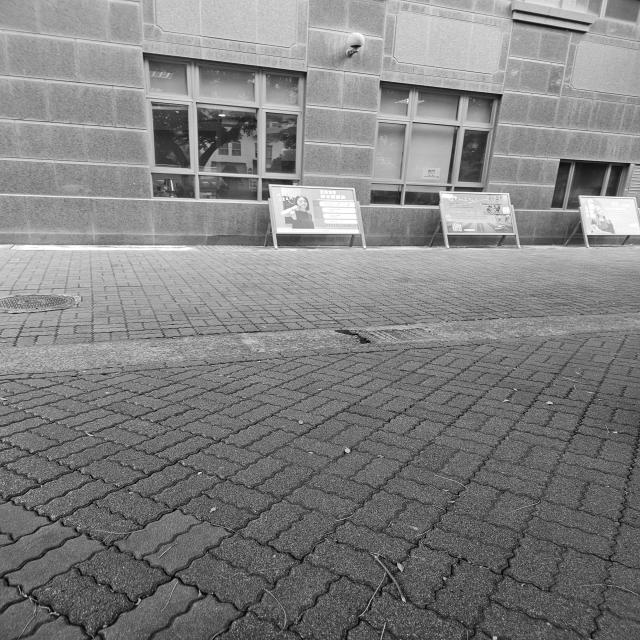Road-Object: (0, 246, 640, 640)
